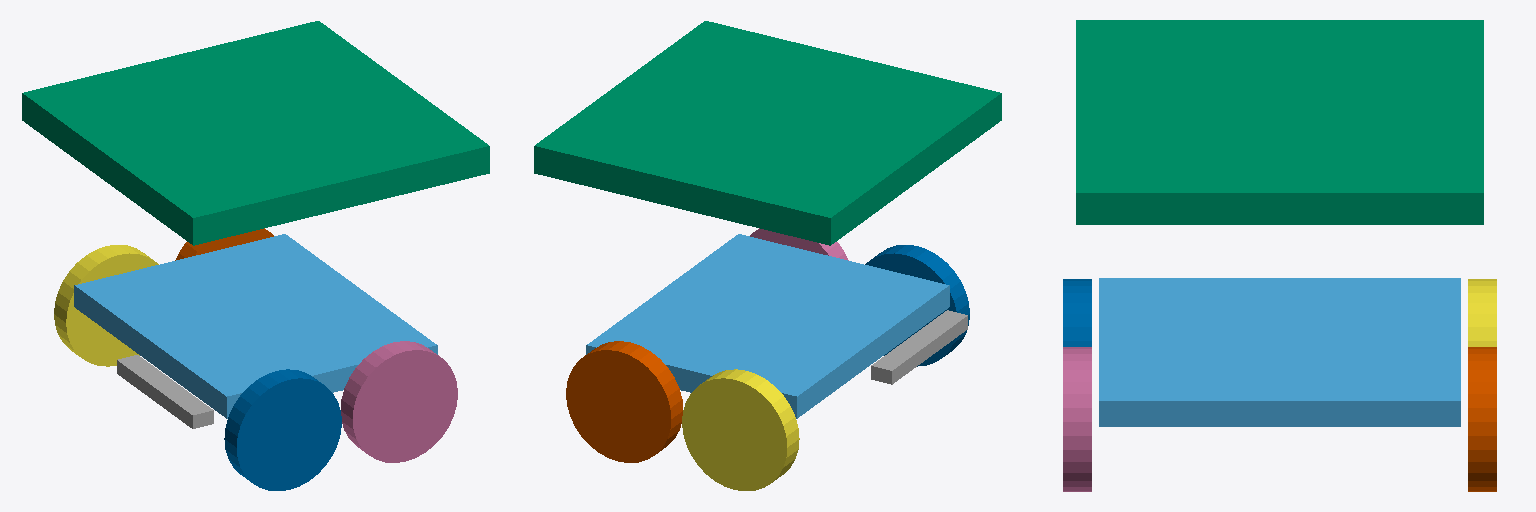
The robot description file, URDF, robot "bot0":
<?xml version="1.0" encoding="utf-8"?>
<!-- =================================================================================== -->
<!-- |    This document was autogenerated by xacro from bot.urdf.xacro                 | -->
<!-- |    EDITING THIS FILE BY HAND IS NOT RECOMMENDED                                 | -->
<!-- =================================================================================== -->
<robot name="bot0">
  <link name="base_link"/>
  <link name="base_link_inertia">
    <inertial>
      <origin rpy="0 0 0" xyz="0 0 0"/>
      <mass value="1"/>
      <inertia ixx="0.000838666666667" ixy="0" ixz="0" iyy="0.000538666666667" iyz="0" izz="0.00136666666667"/>
    </inertial>
    <collision>
      <origin rpy="0 0 0" xyz="0 0 0"/>
      <geometry>
        <box size="0.08 0.1 0.008"/>
      </geometry>
    </collision>
    <visual>
      <origin rpy="0 0 0" xyz="0 0 0"/>
      <geometry>
        <box size="0.08 0.1 0.008"/>
      </geometry>
    </visual>
    <!-- caster -->
    <!-- 	<collision name="caster_wheel_collision">
			<origin xyz="${length/2-0.02} 0 -0.02" rpy="0 0 0"/>
			<geometry>
				<sphere radius="${wheel_dia/4.0}"/>
			</geometry>			
			<surface>
		        <friction>
		          <ode>
		            <mu>0</mu>
		            <mu2>0</mu2>
		            <slip1>1.0</slip1>
		            <slip2>1.0</slip2>
		          </ode>
		        </friction>
      		</surface>
		</collision>
		<visual name ="caster_wheel_visual">
			<origin xyz="${length/2-0.02} 0 -0.02" rpy="0 0 0"/>
			<geometry>
				<sphere radius="${wheel_dia/4.0}"/>
			</geometry>
		</visual> -->
  </link>
  <link name="aruco">
    <inertial>
      <origin rpy="0 0 0" xyz="0 0 0"/>
      <mass value="0.04"/>
      <inertia ixx="3.35466666667e-05" ixy="0" ixz="0" iyy="2.15466666667e-05" iyz="0" izz="5.46666666667e-05"/>
    </inertial>
    <collision>
      <origin rpy="0 0 0" xyz="0 0 0"/>
      <geometry>
        <mesh filename="package://bot_description/meshes/bot1.dae" scale="1.25 1.25 1.25"/>
      </geometry>
    </collision>
    <visual>
      <origin rpy="0 0 0" xyz="0 0 0"/>
      <geometry>
        <mesh filename="package://bot_description/meshes/bot1.dae" scale="1.25 1.25 1.25"/>
      </geometry>
    </visual>
  </link>
  <!-- x  direction wheel -->
  <link name="left_wheel">
    <inertial>
      <origin rpy="0 0 0" xyz="0 0 0"/>
      <mass value="0.4"/>
      <inertia ixx="4.21333333333e-05" ixy="0" ixz="0" iyy="4.21333333333e-05" iyz="0" izz="8e-05"/>
    </inertial>
    <collision>
      <origin rpy="0 0 0" xyz="0 0 0"/>
      <geometry>
        <cylinder length="0.008" radius="0.02"/>
      </geometry>
    </collision>
    <visual>
      <origin rpy="0 0 0" xyz="0 0 0"/>
      <geometry>
        <cylinder length="0.008" radius="0.02"/>
      </geometry>
    </visual>
  </link>
  <link name="right_wheel">
    <inertial>
      <origin rpy="0 0 0" xyz="0 0 0"/>
      <mass value="0.4"/>
      <inertia ixx="4.21333333333e-05" ixy="0" ixz="0" iyy="4.21333333333e-05" iyz="0" izz="8e-05"/>
    </inertial>
    <collision>
      <origin rpy="0 0 0" xyz="0 0 0"/>
      <geometry>
        <cylinder length="0.008" radius="0.02"/>
      </geometry>
    </collision>
    <visual>
      <origin rpy="0 0 0" xyz="0 0 0"/>
      <geometry>
        <cylinder length="0.008" radius="0.02"/>
      </geometry>
    </visual>
  </link>
  <link name="left_wheel_dumy">
    <inertial>
      <origin rpy="0 0 0" xyz="0 0 0"/>
      <mass value="0.4"/>
      <inertia ixx="4.21333333333e-05" ixy="0" ixz="0" iyy="4.21333333333e-05" iyz="0" izz="8e-05"/>
    </inertial>
    <collision>
      <origin rpy="0 0 0" xyz="0 0 0"/>
      <geometry>
        <cylinder length="0.008" radius="0.02"/>
      </geometry>
    </collision>
    <visual>
      <origin rpy="0 0 0" xyz="0 0 0"/>
      <geometry>
        <cylinder length="0.008" radius="0.02"/>
      </geometry>
    </visual>
  </link>
  <link name="right_wheel_dumy">
    <inertial>
      <origin rpy="0 0 0" xyz="0 0 0"/>
      <mass value="0.4"/>
      <inertia ixx="4.21333333333e-05" ixy="0" ixz="0" iyy="4.21333333333e-05" iyz="0" izz="8e-05"/>
    </inertial>
    <collision>
      <origin rpy="0 0 0" xyz="0 0 0"/>
      <geometry>
        <cylinder length="0.008" radius="0.02"/>
      </geometry>
    </collision>
    <visual>
      <origin rpy="0 0 0" xyz="0 0 0"/>
      <geometry>
        <cylinder length="0.008" radius="0.02"/>
      </geometry>
    </visual>
  </link>
  <!-- y direction wheel -->
  <link name="back_right_wheel_lever">
    <inertial>
      <origin rpy="0 0 0" xyz="0 0 0"/>
      <mass value="0.1"/>
      <inertia ixx="7.41666666667e-07" ixy="0" ixz="0" iyy="2.13666666667e-05" iyz="0" izz="2.10416666667e-05"/>
    </inertial>
    <collision>
      <origin rpy="0 0 0" xyz="0 0.02 0"/>
      <geometry>
        <box size="0.008 0.05 0.005"/>
      </geometry>
    </collision>
    <visual>
      <origin rpy="0 0 0" xyz="0 0.02 0"/>
      <geometry>
        <box size="0.008 0.05 0.005"/>
      </geometry>
    </visual>
  </link>
  <!-- joints def -->
  <joint name="base_link_inertia_joint_0" type="fixed">
    <parent link="base_link"/>
    <child link="base_link_inertia"/>
    <origin rpy="0 0 0" xyz="0 0 0"/>
  </joint>
  <joint name="aruco_joint_0" type="fixed">
    <parent link="base_link"/>
    <child link="aruco"/>
    <origin rpy="0 0 0" xyz="0 0 0.07"/>
  </joint>
  <joint name="bot0_left_wheel_joint" type="continuous">
    <parent link="base_link"/>
    <child link="left_wheel"/>
    <origin rpy="0 1.570795 1.570795" xyz="-0.022 0.056  -0.01"/>
    <axis rpy="0 0 0" xyz="0 0 1"/>
  </joint>
  <joint name="bot0_right_wheel_joint" type="continuous">
    <parent link="base_link"/>
    <child link="right_wheel"/>
    <origin rpy="0 1.570795 1.570795" xyz="-0.022 -0.056  -0.01"/>
    <axis rpy="0 0 0" xyz="0 0 1"/>
  </joint>
  <joint name="bot0_left_wheel_joint_dumy" type="continuous">
    <parent link="base_link"/>
    <child link="left_wheel_dumy"/>
    <origin rpy="0 1.570795 1.570795" xyz="0.022 0.056  -0.01"/>
    <axis rpy="0 0 0" xyz="0 0 1"/>
  </joint>
  <joint name="bot0_right_wheel_joint_dumy" type="continuous">
    <parent link="base_link"/>
    <child link="right_wheel_dumy"/>
    <origin rpy="0 1.570795 1.570795" xyz="0.022 -0.056  -0.01"/>
    <axis rpy="0 0 0" xyz="0 0 1"/>
  </joint>
  <!-- y direction level joints -->
  <joint name="bot0_back_right_wheel_lever" type="continuous">
    <parent link="base_link"/>
    <child link="back_right_wheel_lever"/>
    <origin rpy="0 0 0" xyz="-0.046 -0.04  -0.005"/>
    <axis rpy="0 0 0" xyz="1 0 0"/>
  </joint>
  <!-- controls plugin for vlecoty based control -->
  <gazebo>
    <plugin filename="libgazebo_ros_diff_drive.so" name="differential_drive_controller">
      <alwaysOn>true</alwaysOn>
      <updateRate>2</updateRate>
      <leftJoint>bot0_left_wheel_joint</leftJoint>
      <rightJoint>bot0_right_wheel_joint</rightJoint>
      <wheelSeparation>0.096</wheelSeparation>
      <wheelDiameter>0.04</wheelDiameter>
      <torque>1</torque>
      <commandTopic>cmd_vel_x</commandTopic>
      <odometryTopic>odom</odometryTopic>
      <odometryFrame>odom</odometryFrame>
      <robotBaseFrame>base_link</robotBaseFrame>
    </plugin>
  </gazebo>
  <gazebo>
    <plugin filename="libgazebo_ros_diff_drive.so" name="differential_drive_controller">
      <alwaysOn>true</alwaysOn>
      <updateRate>2</updateRate>
      <leftJoint>bot0_left_wheel_joint_dumy</leftJoint>
      <rightJoint>bot0_right_wheel_joint_dumy</rightJoint>
      <wheelSeparation>0.096</wheelSeparation>
      <wheelDiameter>0.04</wheelDiameter>
      <torque>1</torque>
      <commandTopic>cmd_vel_dumy_x</commandTopic>
      <odometryTopic>odom</odometryTopic>
      <odometryFrame>odom</odometryFrame>
      <robotBaseFrame>base_link</robotBaseFrame>
    </plugin>
  </gazebo>
</robot>

--- Render facts (derived) ---
Views: 3 orthographic renders of the robot side by side, from view 1: azimuth 30°, elevation 25°; view 2: azimuth 150°, elevation 25°; view 3: azimuth 270°, elevation 25°.
Model bot0 with 8 links and 7 joints (5 continuous, 2 fixed), rooted at base_link, posed every joint at zero.
Visible links, largest first — view 1: aruco, base_link_inertia, right_wheel, right_wheel_dumy, left_wheel, back_right_wheel_lever, left_wheel_dumy; view 2: aruco, base_link_inertia, left_wheel, left_wheel_dumy, right_wheel, back_right_wheel_lever, right_wheel_dumy; view 3: aruco, base_link_inertia, left_wheel_dumy, right_wheel_dumy, left_wheel, right_wheel.
Boxes of the visible links, x1=… form: aruco: x1=22, y1=21, x2=489, y2=245; base_link_inertia: x1=74, y1=234, x2=437, y2=418; right_wheel: x1=224, y1=369, x2=341, y2=490; right_wheel_dumy: x1=341, y1=341, x2=457, y2=462; left_wheel: x1=54, y1=245, x2=158, y2=366; back_right_wheel_lever: x1=117, y1=355, x2=213, y2=428; left_wheel_dumy: x1=175, y1=228, x2=273, y2=260; aruco: x1=534, y1=21, x2=1001, y2=245; base_link_inertia: x1=586, y1=234, x2=949, y2=418; left_wheel: x1=682, y1=369, x2=799, y2=490; left_wheel_dumy: x1=566, y1=341, x2=682, y2=462; right_wheel: x1=865, y1=245, x2=969, y2=366; back_right_wheel_lever: x1=871, y1=310, x2=967, y2=384; right_wheel_dumy: x1=750, y1=228, x2=848, y2=260; aruco: x1=1076, y1=20, x2=1483, y2=224; base_link_inertia: x1=1099, y1=278, x2=1460, y2=426; left_wheel_dumy: x1=1468, y1=347, x2=1496, y2=491; right_wheel_dumy: x1=1063, y1=347, x2=1091, y2=491; left_wheel: x1=1468, y1=279, x2=1496, y2=346; right_wheel: x1=1063, y1=279, x2=1091, y2=346.
Size in the robot's own frame: 0.1125 by 0.12 by 0.105 metres.
1 mesh visuals loaded from 1 distinct referenced files (1 Collada DAE).